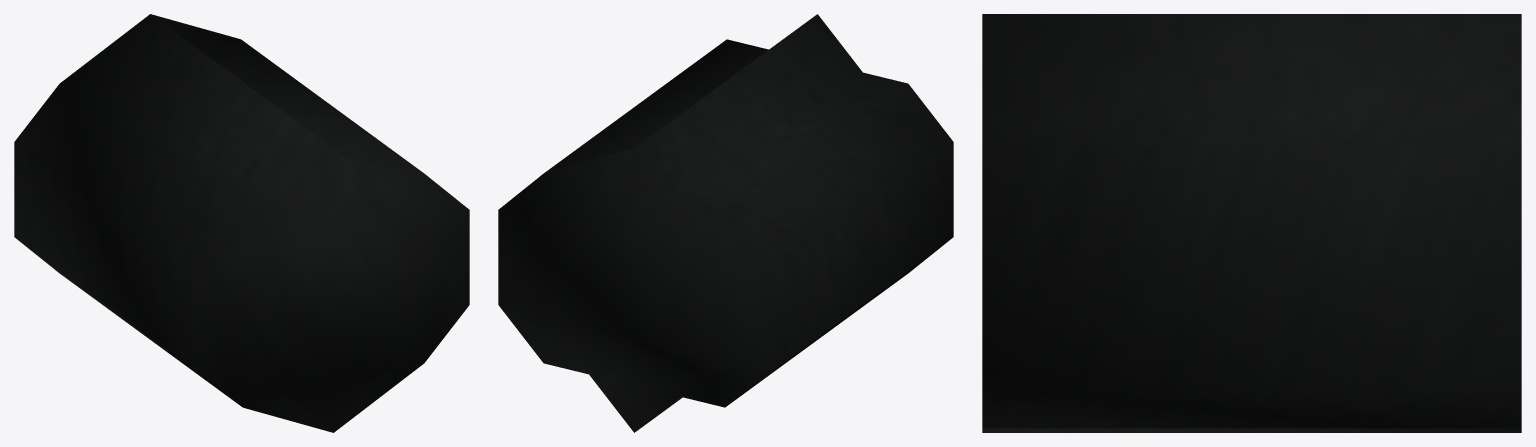
3 renders of one model, left to right at view 1: azimuth 30°, elevation 25°; view 2: azimuth 150°, elevation 25°; view 3: azimuth 270°, elevation 25°, orthographic. The views are drawn at different scales.
Size of the model in its own units: 0.3 by 0.3 by 0.35.
Materials: 1 (1 with a texture image).
